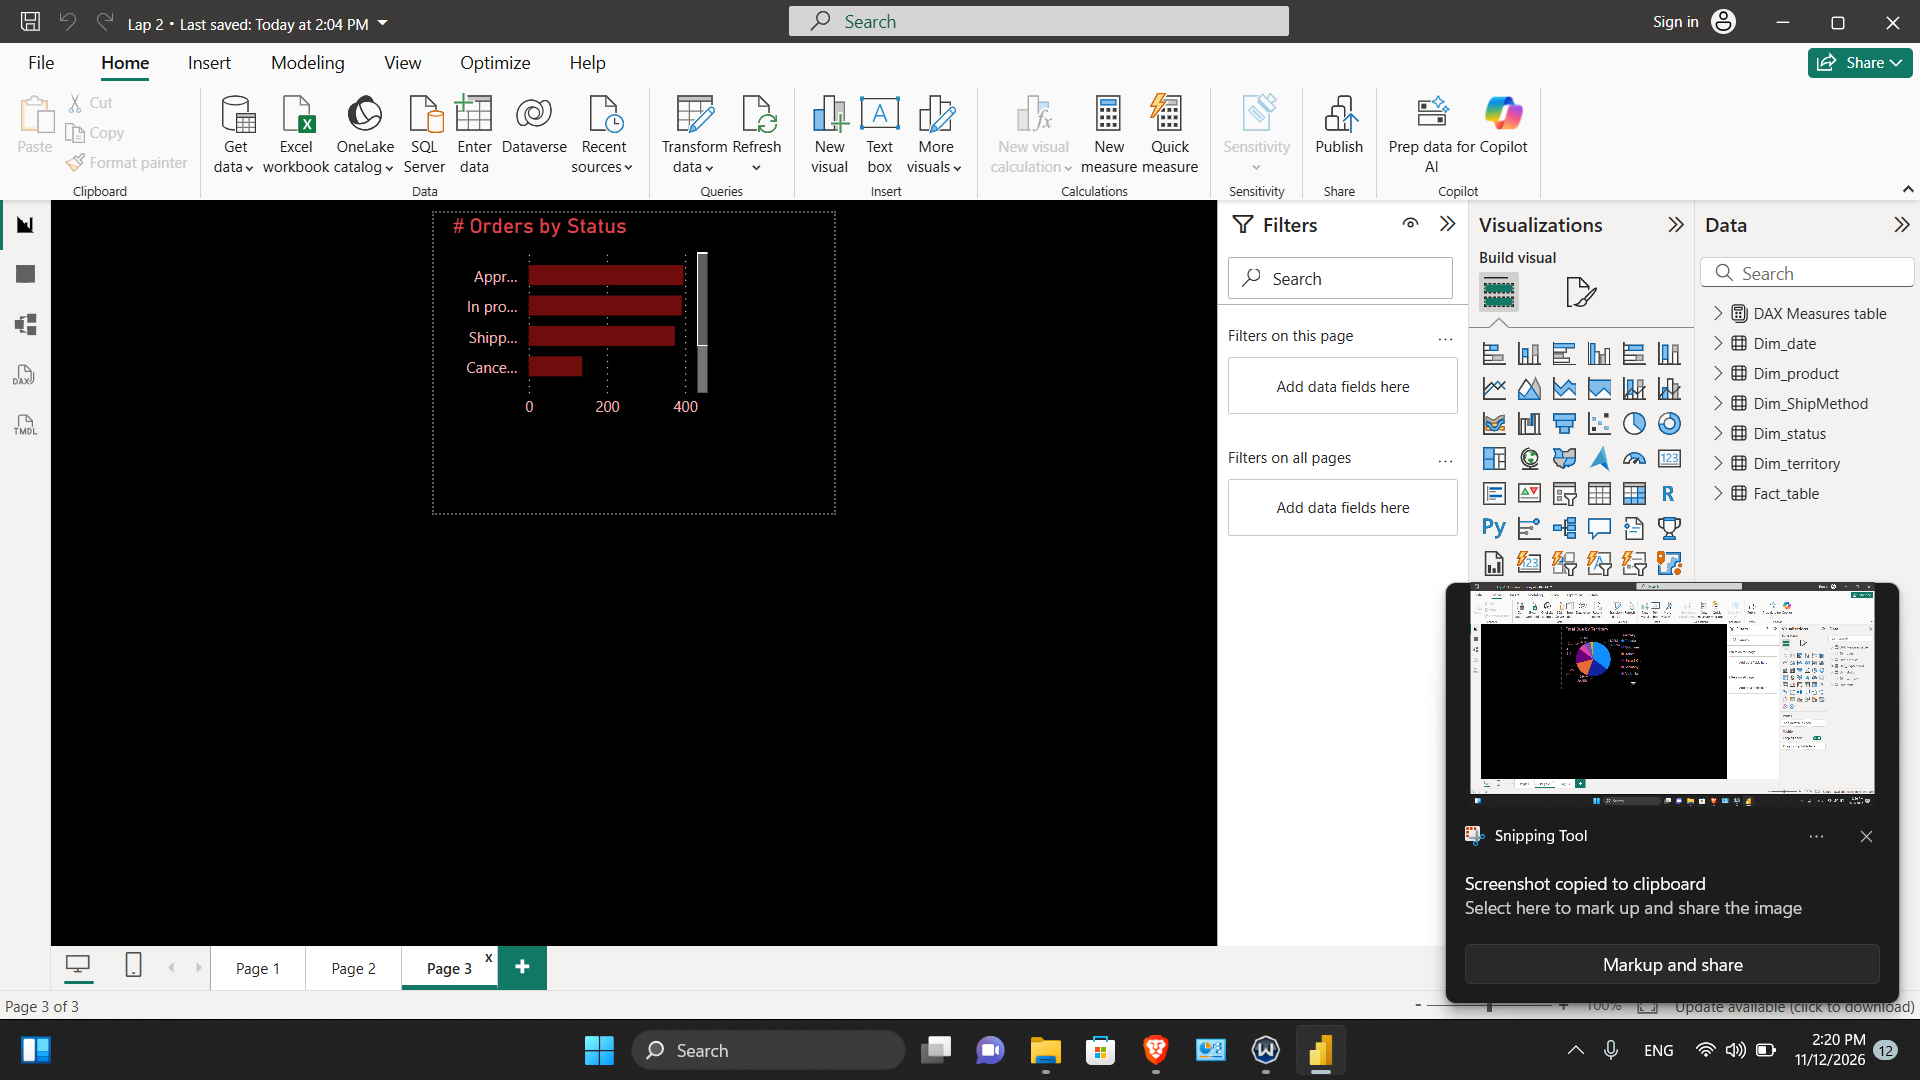

What the dashboard file says about the page in this screenshot:
{"tool":"powerbi","page":{"name":"Page 3","canvas":[320,240],"ordinal":2},"visuals":[{"type":"clusteredBarChart","fields":{"Category":["Dim_status.Status"],"Y":["DAX Measures table.# Orders"]},"box":[10,0,214,173],"z":0}]}

Visuals, with their boxes on the page's 320x240 design canvas (x1, y1, x2, y2). These are canvas units, not pixel positions in the 1920x1080 screenshot, which may show the page scaled, cropped or inside an application window:
clusteredBarChart - Dim_status.Status x DAX Measures table.# Orders: locate(10, 0, 224, 173)
